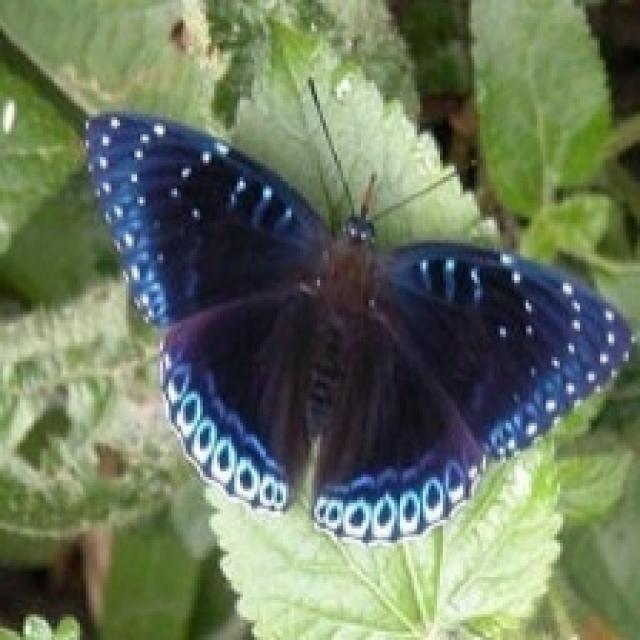butterfly: (80, 71, 634, 546)
